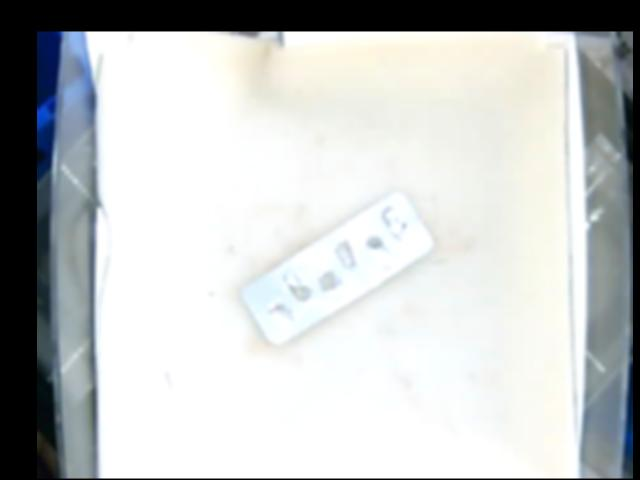Medicine: (242, 192, 430, 345)
